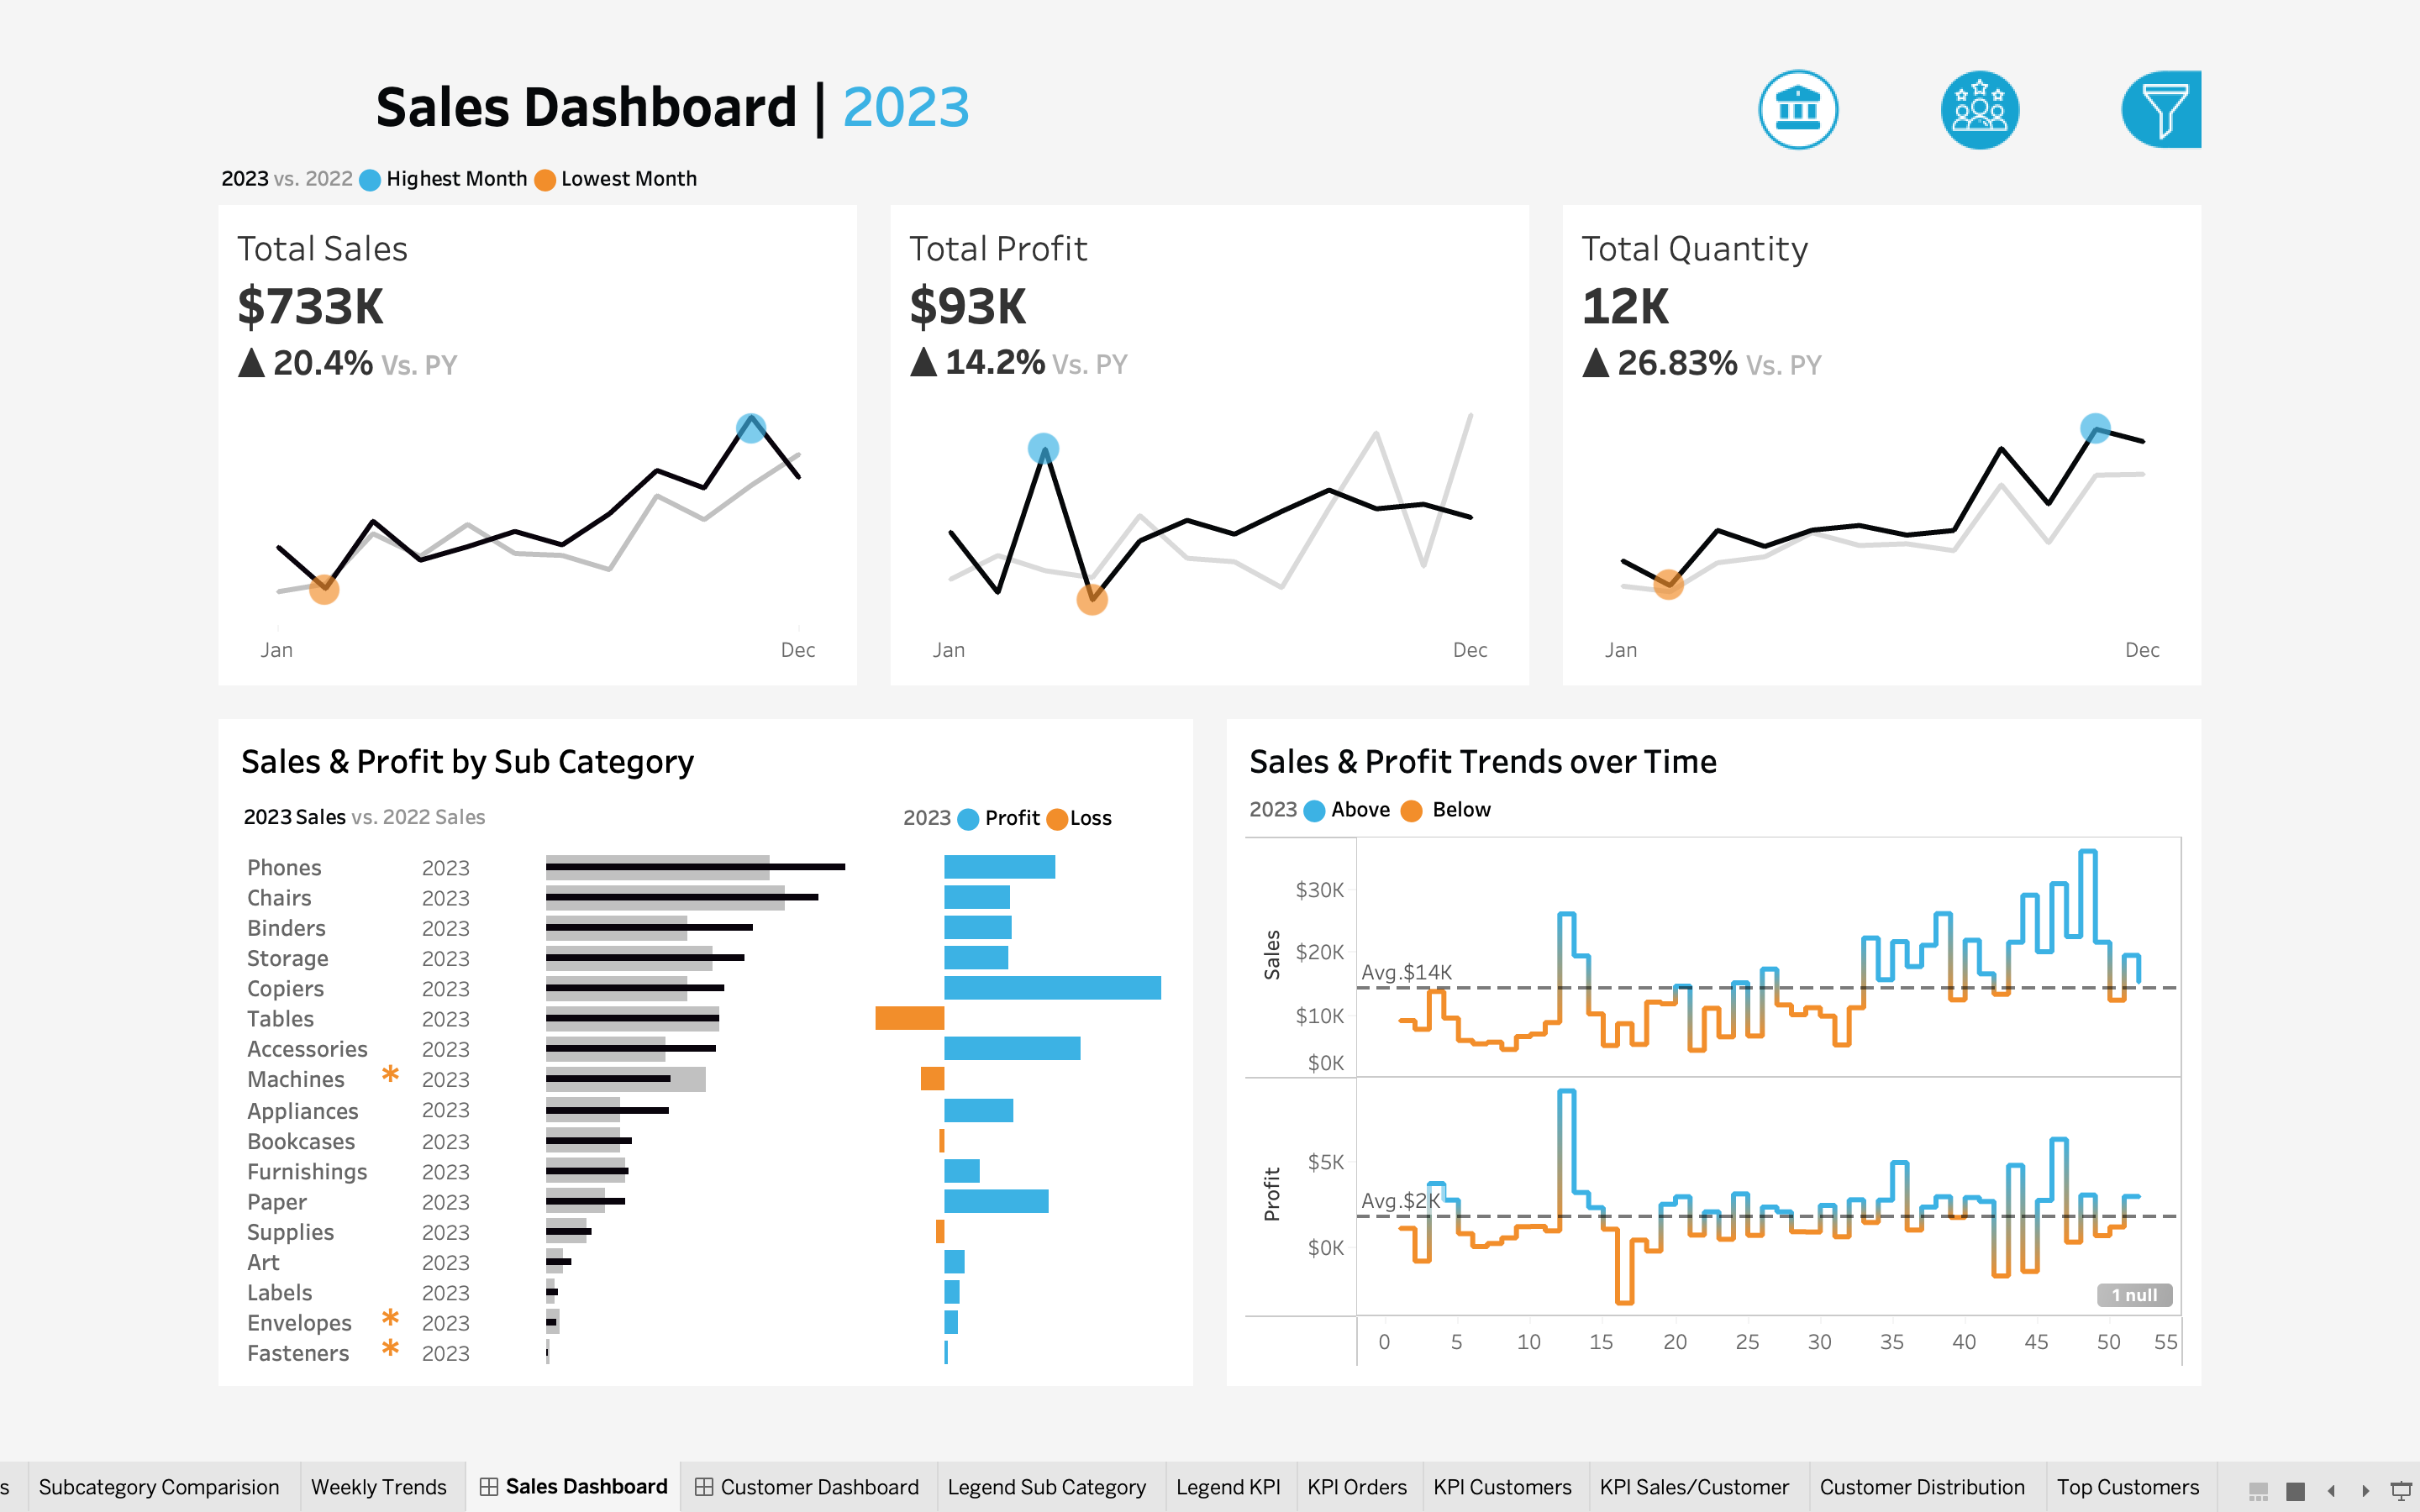

What the dashboard file says about the page in this screenshot:
{"tool":"tableau","page":{"name":"Sales Dashboard","canvas":[1200,800],"ordinal":1},"visuals":[{"type":"image","param":"Image/Icon - Logo.png","box":[0,0,97,55]},{"type":"text","box":[97,0,1103,55]},{"type":"dashboard-object","box":[896,2,108,57]},{"type":"dashboard-object","box":[1004,2,108,57]},{"type":"blank","box":[927,10,262,67]},{"type":"worksheet","title":"Legend KPI","mark":"Automatic","box":[0,55,1200,32]},{"type":"text","box":[927,77,262,34]},{"type":"worksheet","title":"KPI Sales","mark":"Automatic","rows":["Calculation_4944670920557232132"],"cols":["Order Date"],"box":[0,87,400,296]},{"type":"worksheet","title":"KPI Profits","mark":"Automatic","rows":["Calculation_5475673465471451141"],"cols":["Order Date"],"box":[400,87,400,296]},{"type":"worksheet","title":"KPI QUantities","mark":"Automatic","rows":["Calculation_5475673465850994706"],"cols":["Order Date"],"box":[800,87,400,296]},{"type":"parameter","param":"[Parameters].[Parameter 1]","box":[927,111,262,52]},{"type":"blank","box":[927,163,262,37]},{"type":"text","box":[927,200,262,29]},{"type":"filter","title":"KPI Sales","param":"[federated.0pwvi4g1gjz4yg1gl4unq0vwvorx].[none:Category:nk]","box":[927,229,262,52]},{"type":"filter","title":"KPI Sales","param":"[federated.0pwvi4g1gjz4yg1gl4unq0vwvorx].[none:Sub-Category:nk]","box":[927,281,262,52]},{"type":"text","box":[927,333,262,61]},{"type":"filter","title":"KPI Sales","param":"[federated.0pwvi4g1gjz4yg1gl4unq0vwvorx].[none:Region:nk]","box":[927,394,262,52]},{"type":"text","box":[17,400,566,34]},{"type":"text","box":[617,400,566,34]},{"type":"worksheet","title":"Legend Sub Category","mark":"Automatic","box":[17,434,394,34]},{"type":"text","box":[411,434,172,34]},{"type":"text","box":[617,434,566,25]},{"type":"filter","title":"KPI Sales","param":"[federated.0pwvi4g1gjz4yg1gl4unq0vwvorx].[none:State:nk]","box":[927,446,262,52]},{"type":"worksheet","title":"Weekly Trends","mark":"Automatic","rows":["Calculation_4944670920520134656","Calculation_5475673465274957824"],"cols":["Order Date"],"box":[617,459,566,324]},{"type":"worksheet","title":"Subcategory Comparision","mark":"Bar","rows":["Sub-Category","Calculation_6840334523972333568","Calculation_5310869865758224384"],"cols":["Calculation_4944670920521089025","Calculation_4944670920520134656","Calculation_5475673465274957824"],"box":[17,468,566,315]},{"type":"filter","title":"KPI Sales","param":"[federated.0pwvi4g1gjz4yg1gl4unq0vwvorx].[none:City:nk]","box":[927,498,262,52]}]}

Visuals, with their boxes on the page's 1200x800 design canvas (x1, y1, x2, y2). These are canvas units, not pixel positions in the 2420x1512 screenshot, which may show the page scaled, cropped or inside an application window:
image: pyautogui.locateOnScreen(0, 0, 97, 55)
text: pyautogui.locateOnScreen(97, 0, 1200, 55)
dashboard-object: pyautogui.locateOnScreen(896, 2, 1004, 59)
dashboard-object: pyautogui.locateOnScreen(1004, 2, 1112, 59)
blank: pyautogui.locateOnScreen(927, 10, 1189, 77)
"Legend KPI" worksheet: pyautogui.locateOnScreen(0, 55, 1200, 87)
text: pyautogui.locateOnScreen(927, 77, 1189, 111)
"KPI Sales" worksheet: pyautogui.locateOnScreen(0, 87, 400, 383)
"KPI Profits" worksheet: pyautogui.locateOnScreen(400, 87, 800, 383)
"KPI QUantities" worksheet: pyautogui.locateOnScreen(800, 87, 1200, 383)
parameter: pyautogui.locateOnScreen(927, 111, 1189, 163)
blank: pyautogui.locateOnScreen(927, 163, 1189, 200)
text: pyautogui.locateOnScreen(927, 200, 1189, 229)
"KPI Sales" filter: pyautogui.locateOnScreen(927, 229, 1189, 281)
"KPI Sales" filter: pyautogui.locateOnScreen(927, 281, 1189, 333)
text: pyautogui.locateOnScreen(927, 333, 1189, 394)
"KPI Sales" filter: pyautogui.locateOnScreen(927, 394, 1189, 446)
text: pyautogui.locateOnScreen(17, 400, 583, 434)
text: pyautogui.locateOnScreen(617, 400, 1183, 434)
"Legend Sub Category" worksheet: pyautogui.locateOnScreen(17, 434, 411, 468)
text: pyautogui.locateOnScreen(411, 434, 583, 468)
text: pyautogui.locateOnScreen(617, 434, 1183, 459)
"KPI Sales" filter: pyautogui.locateOnScreen(927, 446, 1189, 498)
"Weekly Trends" worksheet: pyautogui.locateOnScreen(617, 459, 1183, 783)
"Subcategory Comparision" worksheet (Bar marks): pyautogui.locateOnScreen(17, 468, 583, 783)
"KPI Sales" filter: pyautogui.locateOnScreen(927, 498, 1189, 550)
